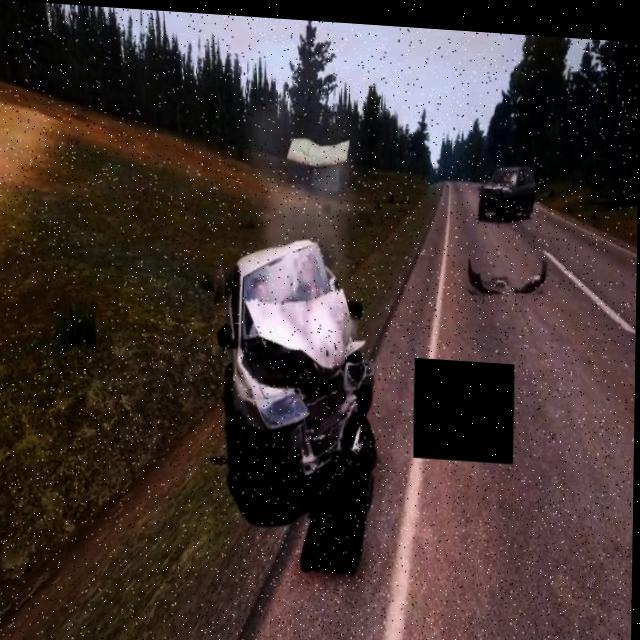multiple_accident: (203, 226, 381, 526), (472, 150, 539, 236)
